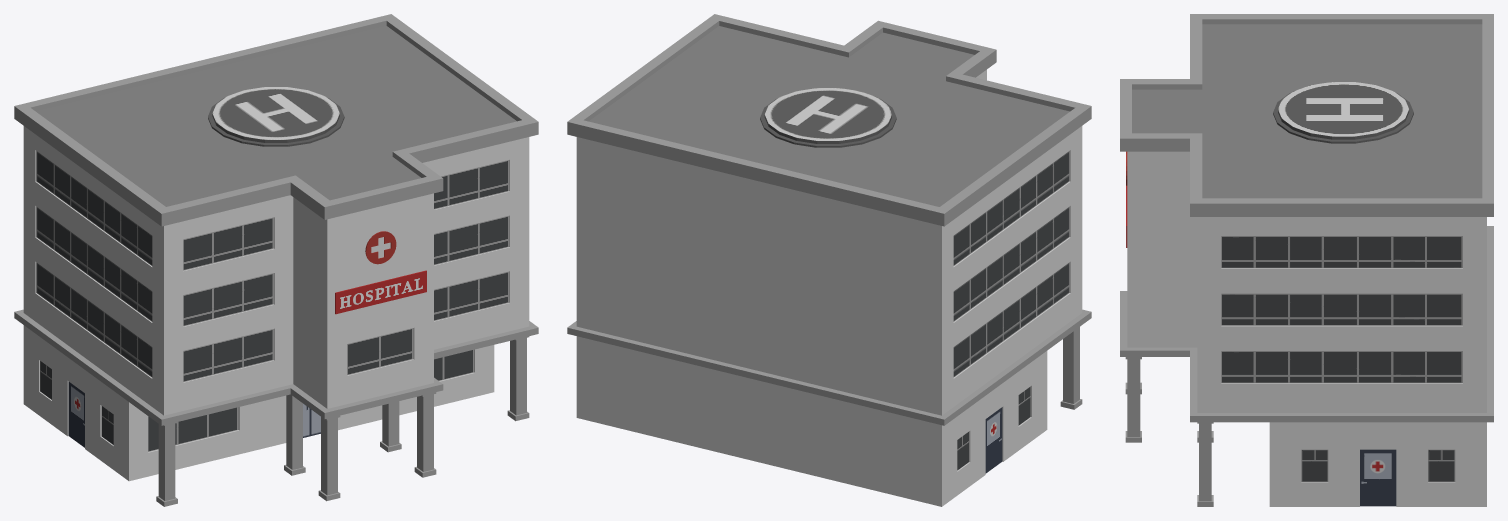
The model's file is spb-hospital.glb.
3 renders of one model, left to right at view 1: azimuth 30°, elevation 25°; view 2: azimuth 150°, elevation 25°; view 3: azimuth 270°, elevation 25°, orthographic. The views are drawn at different scales.
Parts seen in each view (by area): view 1: SPB_Hospital; view 2: SPB_Hospital; view 3: SPB_Hospital.
Part boxes in pixels (<box>): SPB_Hospital: <box>14,14,538,506</box>; SPB_Hospital: <box>567,14,1091,506</box>; SPB_Hospital: <box>1120,14,1493,506</box>.
Size of the model in its own units: 22.3 by 16.79 by 18.58.
1 material, 1 textured.
